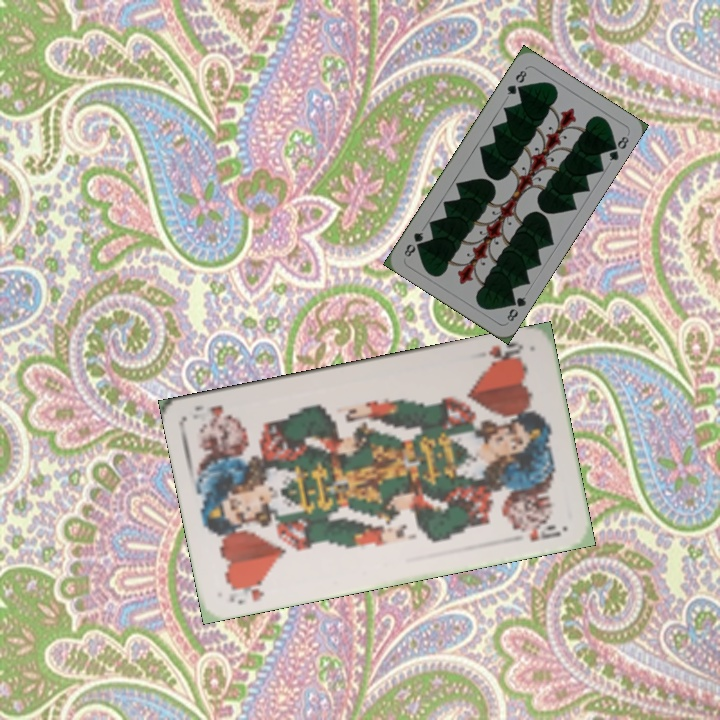G8: (503, 64, 529, 97), (503, 292, 529, 324)
HO: (481, 338, 526, 369), (224, 576, 268, 607)
